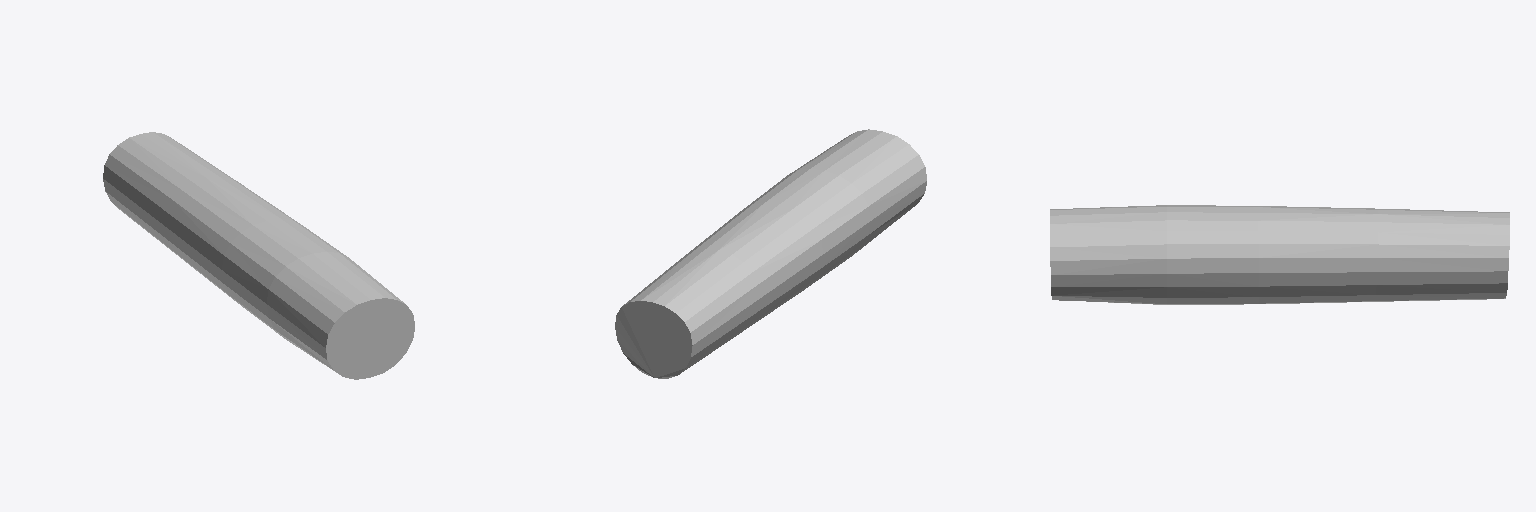
Rendered from snake2.obj.
The picture shows the model from 3 angles: view 1: azimuth 30°, elevation 25°; view 2: azimuth 150°, elevation 25°; view 3: azimuth 270°, elevation 25°; orthographic projection.
Parts seen in each view (by area): view 1: COBRA; view 2: COBRA; view 3: COBRA.
Boxes of the visible parts, x1,y1,x2,y2 form: COBRA: [103, 132, 414, 379]; COBRA: [615, 129, 926, 378]; COBRA: [1050, 205, 1509, 304].
Bounding box in the file's own units: 0.0531 × 0.0482 × 0.2299.